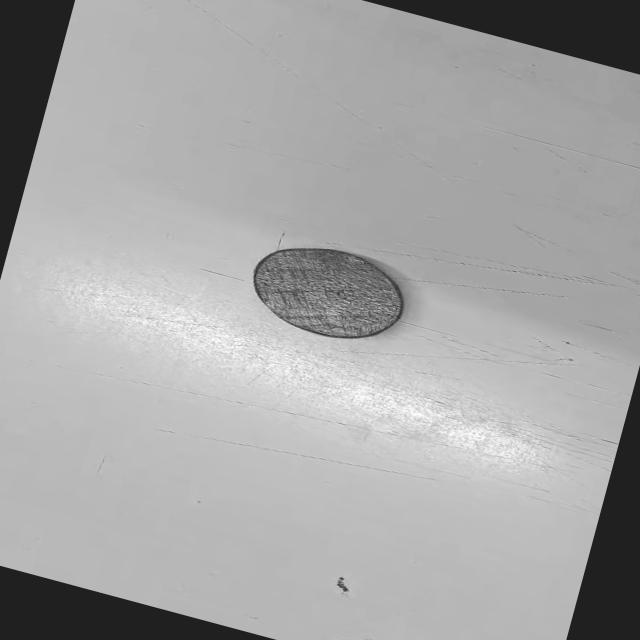rcircle: (253, 247, 404, 338)
